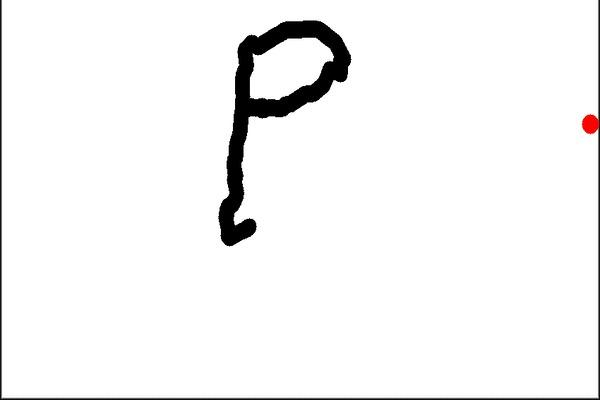P: (206, 9, 363, 256)
